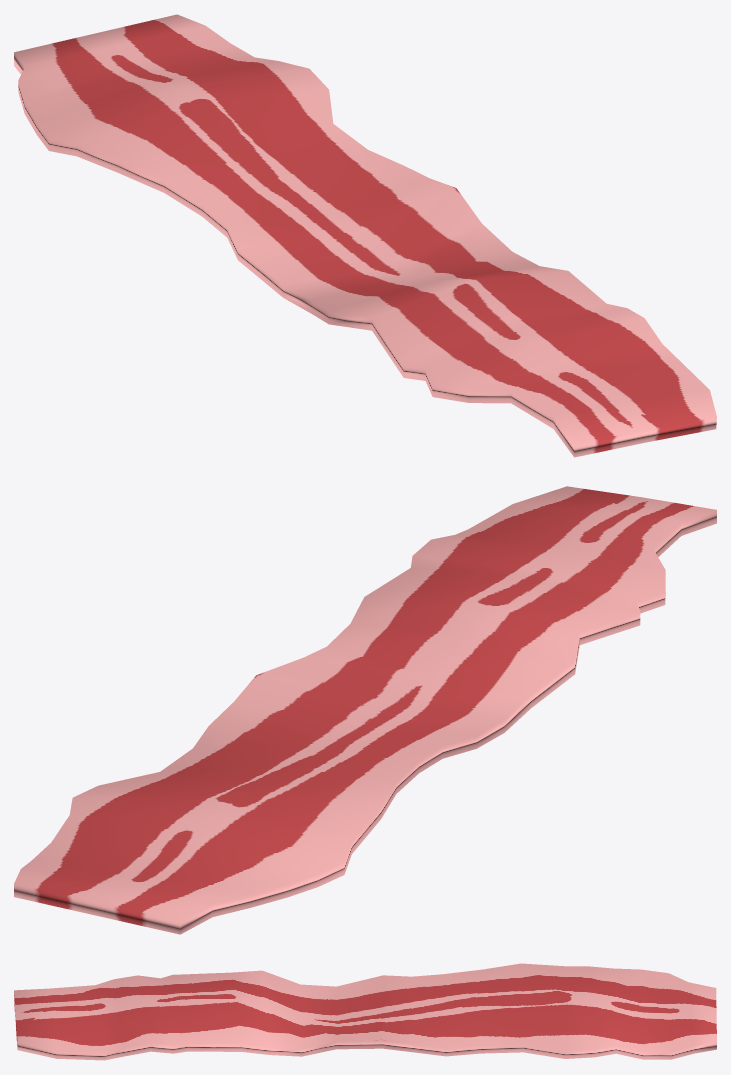
Rendered from Bacon.fbx.
3 renders of one model, top to bottom at view 1: azimuth 30°, elevation 25°; view 2: azimuth 150°, elevation 25°; view 3: azimuth 270°, elevation 25°, orthographic. The views are drawn at different scales.
Visible parts, largest first — view 1: Plane; view 2: Plane; view 3: Plane.
Boxes of the visible parts, x1,y1,x2,y2 form: Plane: [14, 14, 716, 457]; Plane: [14, 486, 716, 934]; Plane: [14, 963, 716, 1060].
Bounding box in the file's own units: 123 × 24.3 × 438.
1 material, 1 textured.
